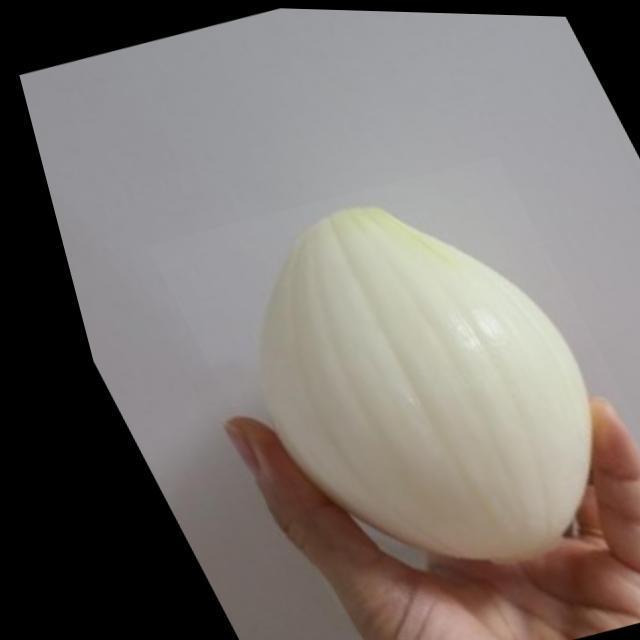Onion: (113, 144, 640, 622)
